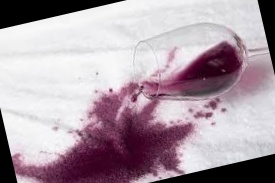wine: (77, 72, 194, 168), (25, 121, 185, 183)
